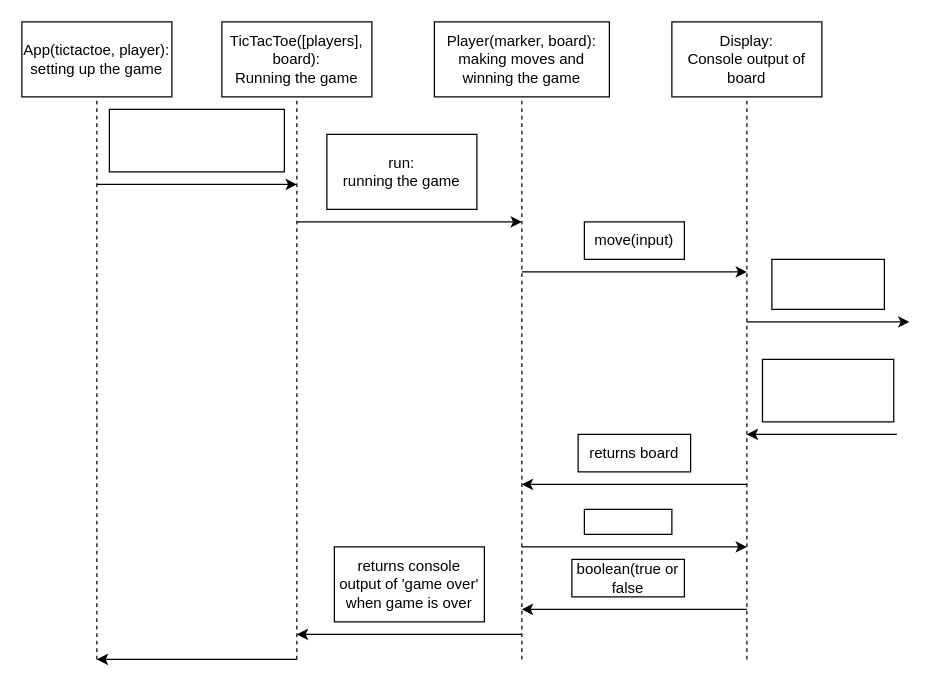
Some shapes in this 941 by 691 pixel diagram are drawn without their labels. Each missing label, with the centre of its shape:
"print(board)" belongs at point (827, 283).
"returns console output of board" belongs at point (827, 390).
"run: create board. initialize players." belongs at point (196, 140).
"won?" belongs at point (627, 521).
